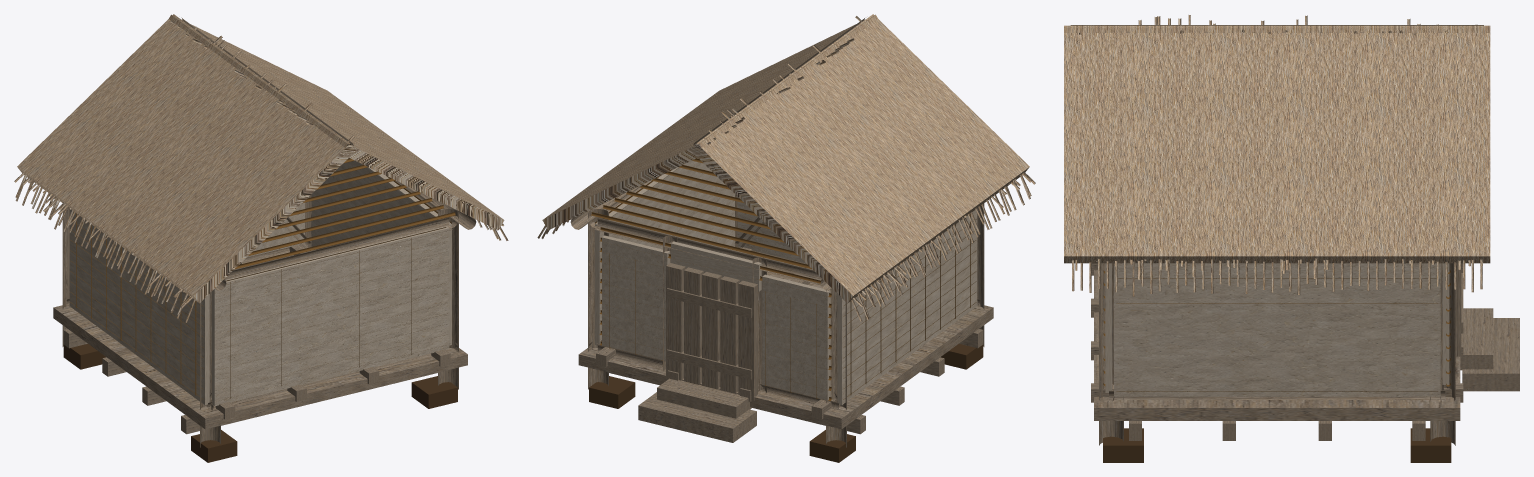
The model's file is boii_storehouse_small.glb.
3 renders of one model, left to right at view 1: azimuth 30°, elevation 25°; view 2: azimuth 150°, elevation 25°; view 3: azimuth 270°, elevation 25°, orthographic. The views are drawn at different scales.
Parts seen in each view (by area): view 1: Boii small storehouse — WIP; view 2: Boii small storehouse — WIP; view 3: Boii small storehouse — WIP.
Part boxes in pixels (<box>): Boii small storehouse — WIP: <box>14,14,508,462</box>; Boii small storehouse — WIP: <box>537,14,1035,462</box>; Boii small storehouse — WIP: <box>1064,15,1519,462</box>.
Size of the model in its own units: 3.86 by 3.38 by 3.79.
Materials: 5 (3 with a texture image).
